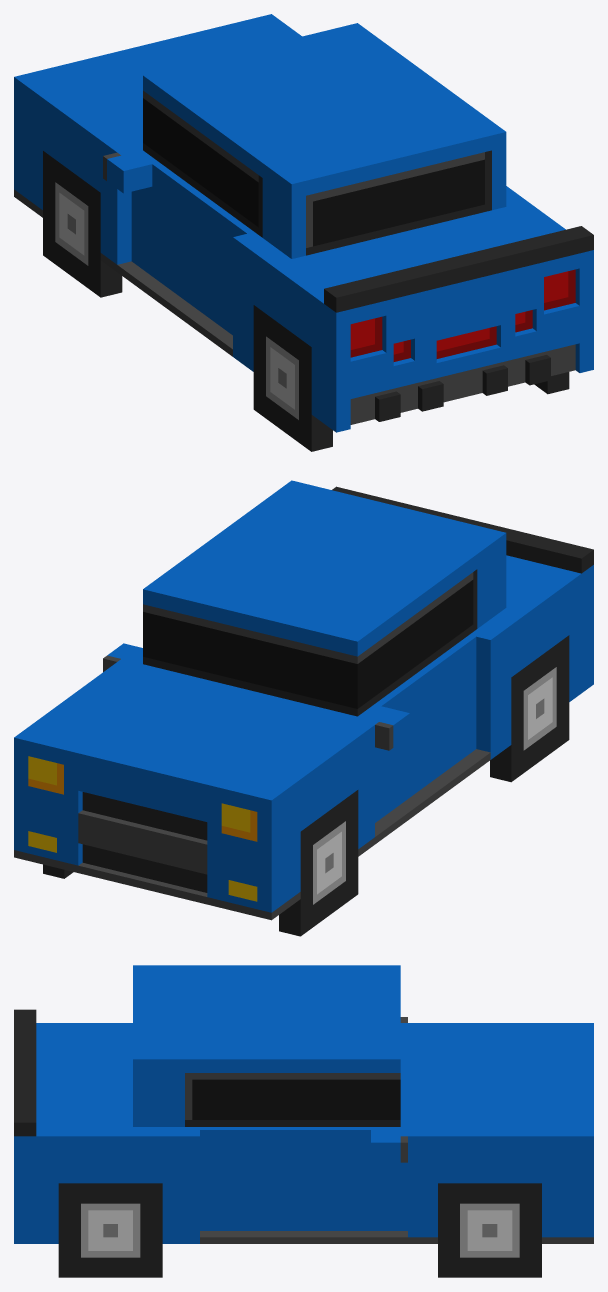
3 views of the same model, one above another, from view 1: azimuth 30°, elevation 25°; view 2: azimuth 150°, elevation 25°; view 3: azimuth 270°, elevation 25° (orthographic). The views are drawn at different scales.
Visible parts, largest first — view 1: alll cars3-1; view 2: alll cars3-1; view 3: alll cars3-1.
Part boxes in pixels (box(x1,y1,x2,y2)): alll cars3-1: box(14, 14, 593, 451); alll cars3-1: box(14, 480, 593, 936); alll cars3-1: box(14, 965, 593, 1277).
Size of the model in its own units: 3.41 by 2.64 by 6.64.
1 material, 1 textured.
